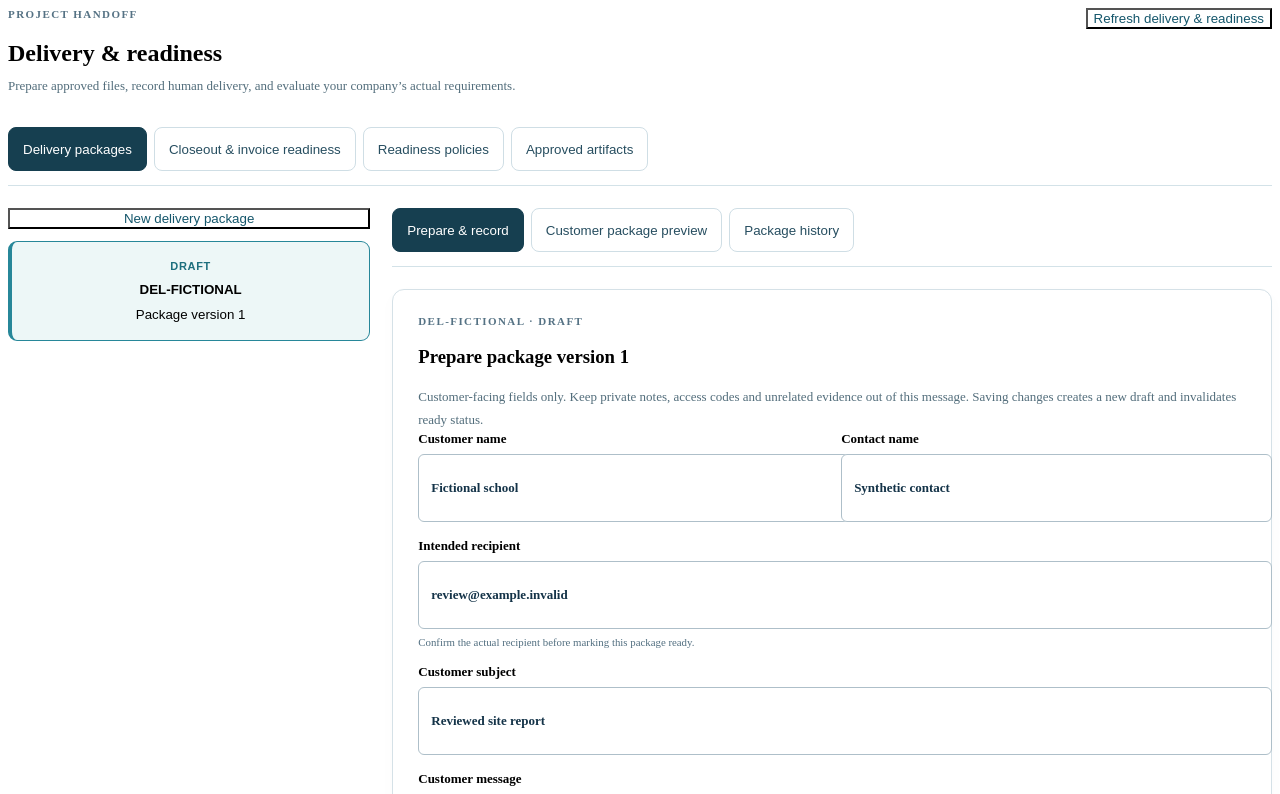
Test: approved delivery and live readiness UI › does not preselect billing requirements for an unconfigured company
Expected: the field labelled "Customer subject" is shown, [418,687,1272,755]
What coordinates should you click on to do the following:
click the button "Readiness policies"
I would click on:
 (433, 149)
Its box is [363,127,504,171].
(page scrolled)
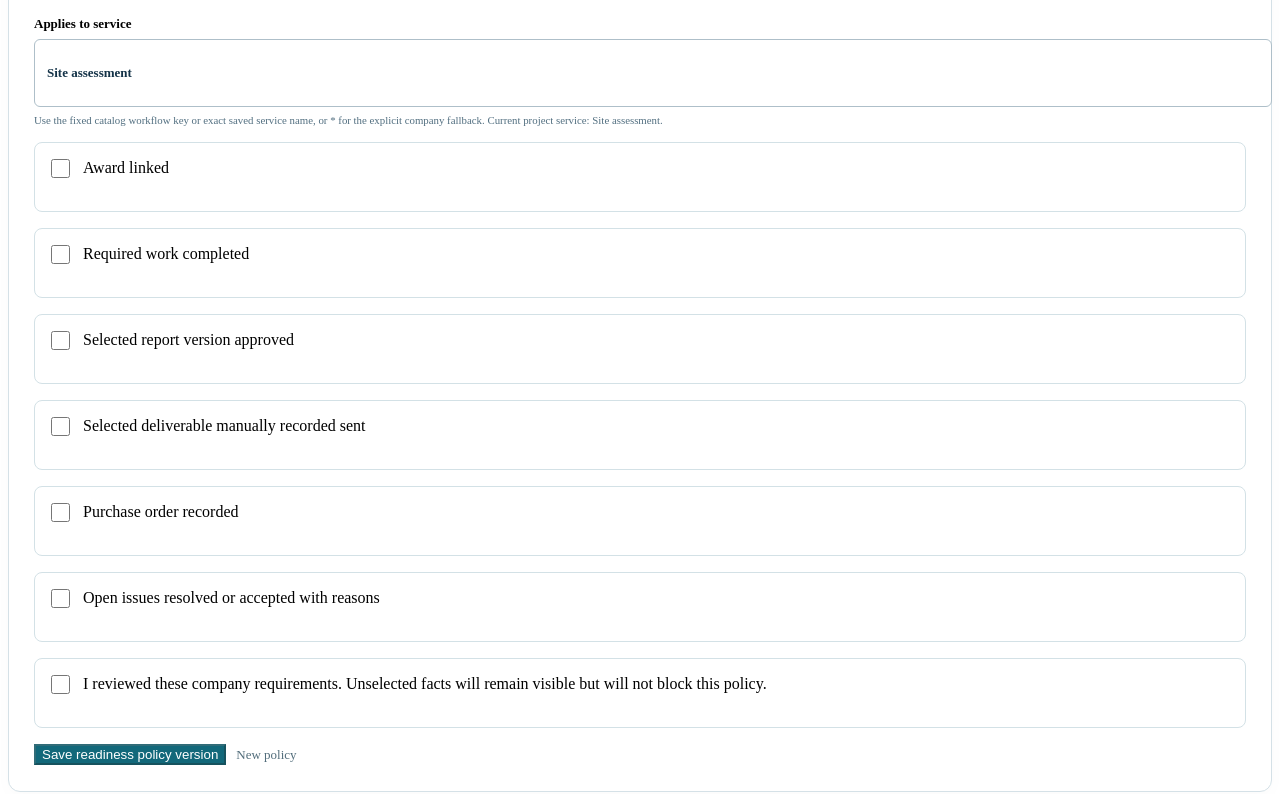
Expected: the checkbox labelled "Selected deliverable manually recorded sent" is not checked, [51,416,70,436]
Now the button "Save readiness policy version" is disabled, box [34,744,226,765]
